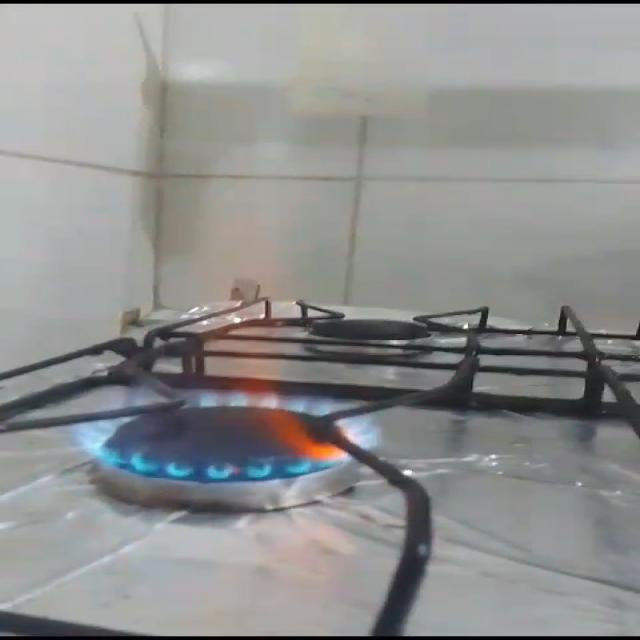fire: (63, 184, 391, 491)
